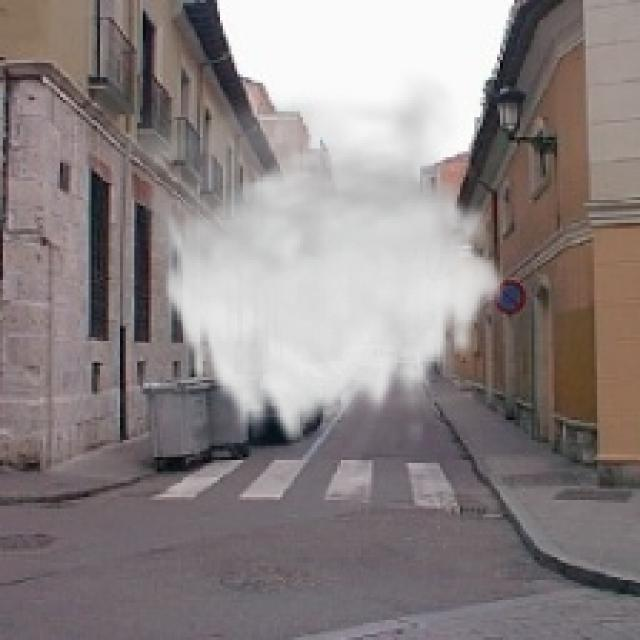smoke: (89, 69, 508, 454)
